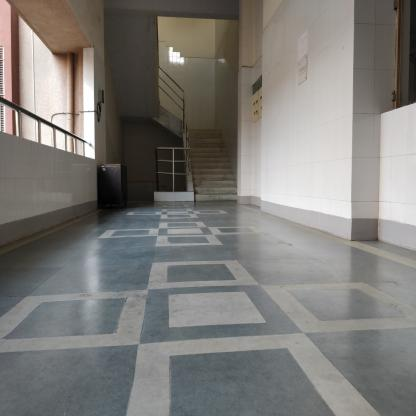stairs: (196, 151, 229, 205)
